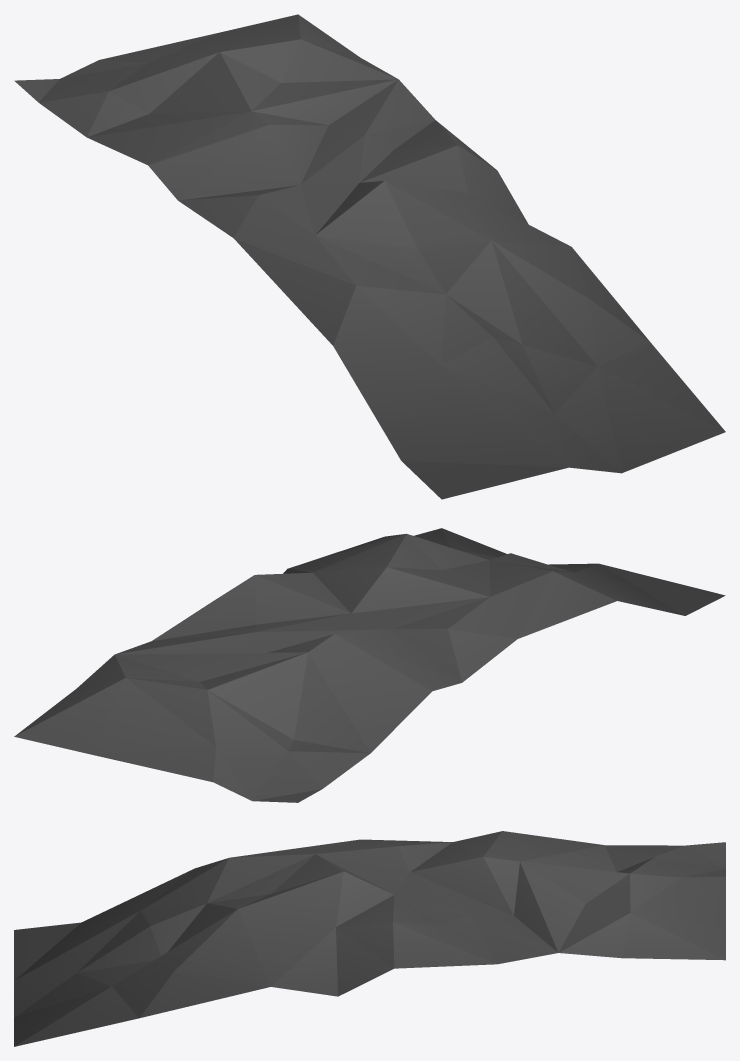
File: coal.fbx
3 renders of one model, top to bottom at view 1: azimuth 30°, elevation 25°; view 2: azimuth 150°, elevation 25°; view 3: azimuth 270°, elevation 25°, orthographic. The views are drawn at different scales.
Parts seen in each view (by area): view 1: coal; view 2: coal; view 3: coal.
Boxes of the visible parts, left/top/right/bottom form: coal: left=14, top=14, right=725, bottom=499; coal: left=14, top=528, right=725, bottom=802; coal: left=14, top=831, right=725, bottom=1046.
Size of the model in its own units: 304 by 162 by 792.
